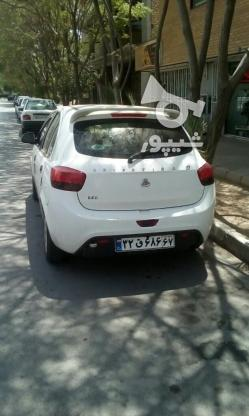car: (114, 231, 176, 254)
